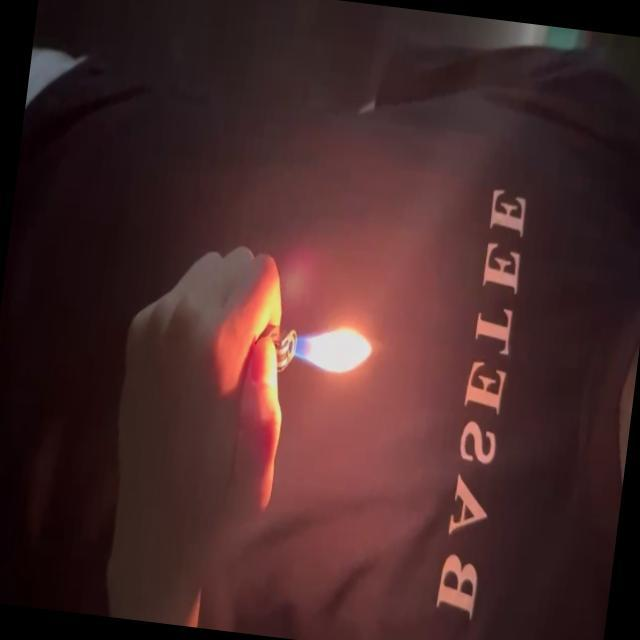Fire: (285, 318, 377, 382)
